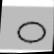no answer: (14, 18, 49, 45)
